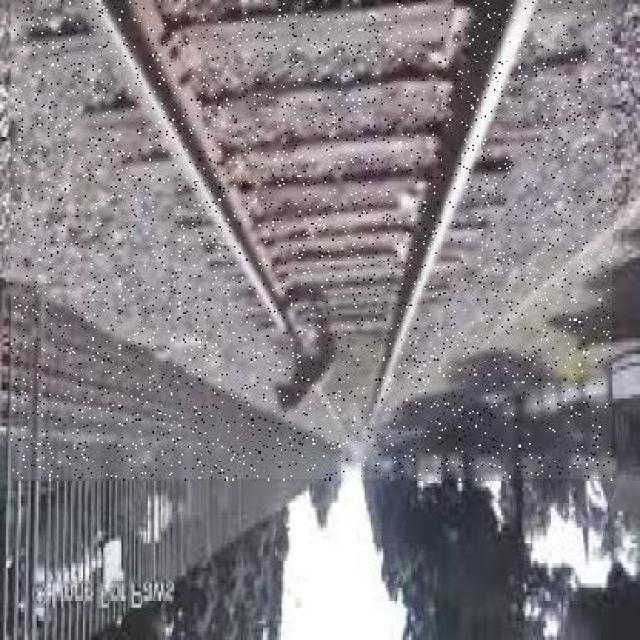rail: (13, 1, 613, 480)
